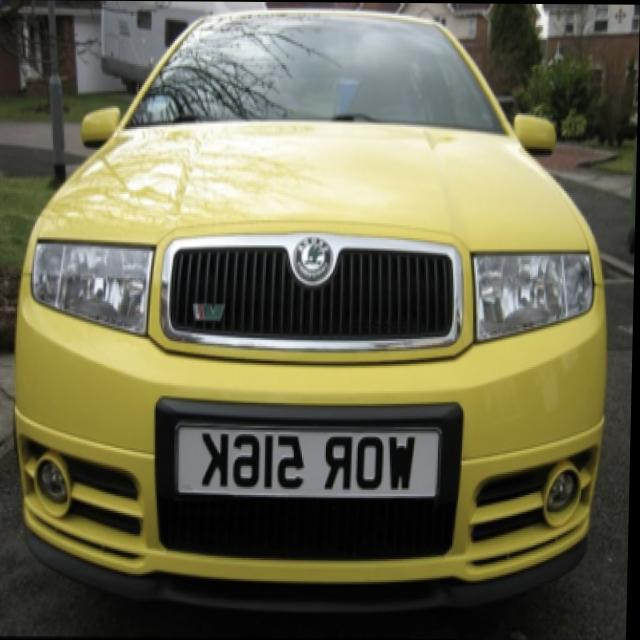licence: (196, 431, 424, 492)
